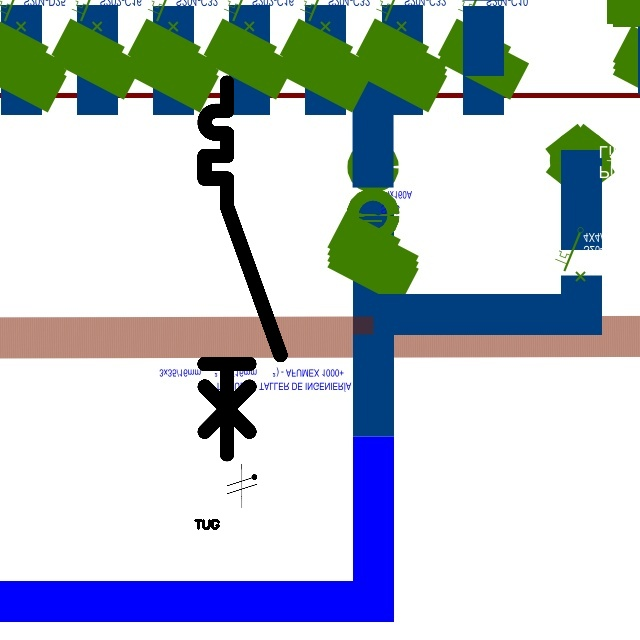interruptor_termomagnetico: (195, 73, 290, 463)
